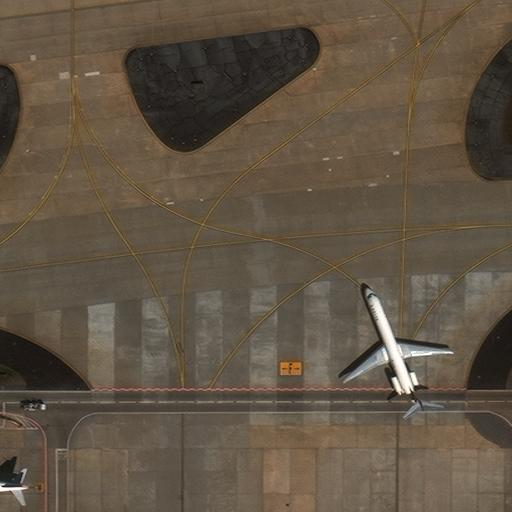Medium Civil Transport: (343, 285, 447, 409)
